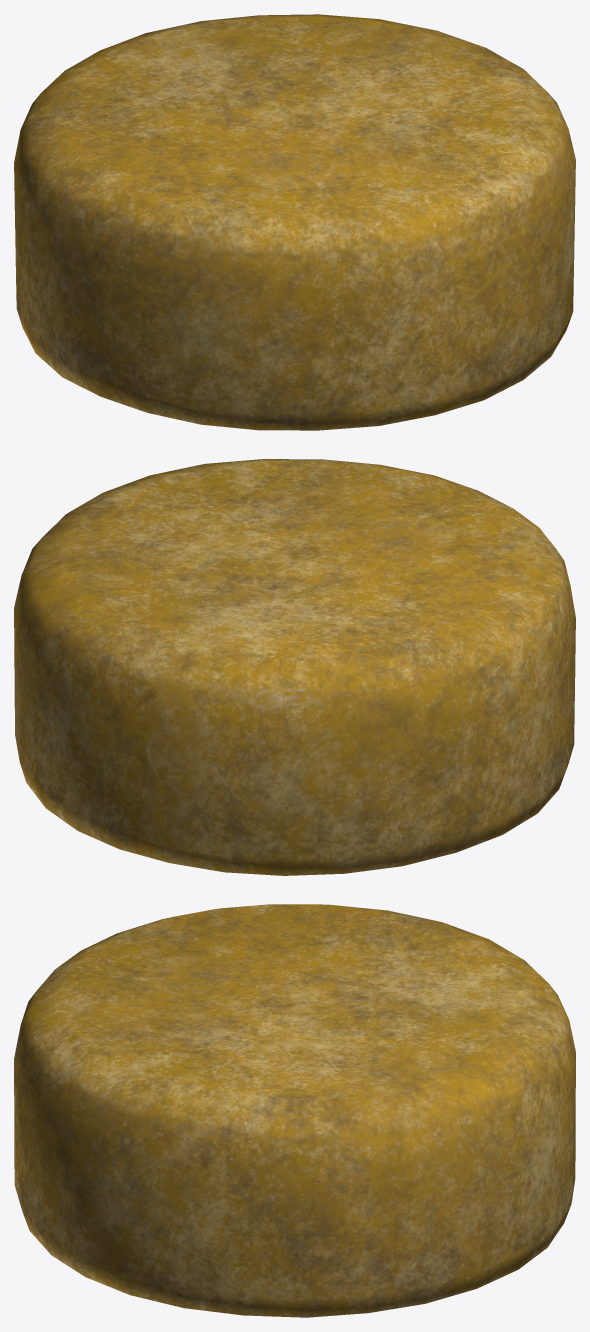
Rendered from CAMP_cheese_wheel_A.fbx.
The picture shows the model from 3 angles, top to bottom: view 1: azimuth 30°, elevation 25°; view 2: azimuth 150°, elevation 25°; view 3: azimuth 270°, elevation 25°; orthographic projection.
Parts seen in each view (by area): view 1: CAMP_cheese_wheel_A; view 2: CAMP_cheese_wheel_A; view 3: CAMP_cheese_wheel_A.
Part boxes in pixels (x1,y1,x2,y2): CAMP_cheese_wheel_A: (14,14,575,430); CAMP_cheese_wheel_A: (14,459,575,875); CAMP_cheese_wheel_A: (14,904,575,1317).
Size of the model in its own units: 32.85 by 13.56 by 33.
